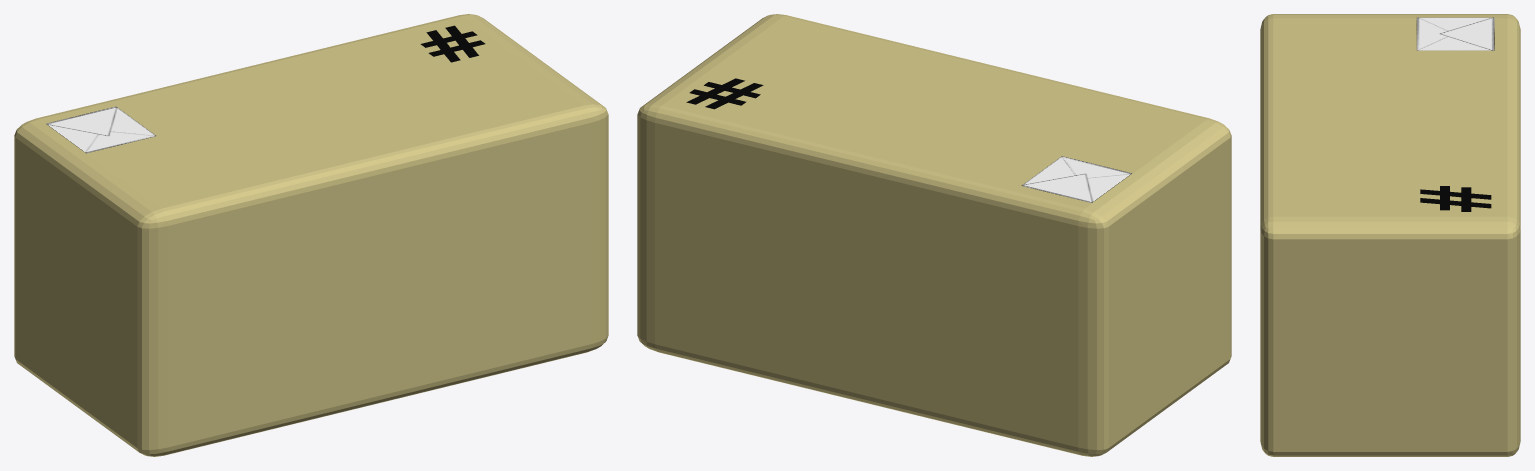
File: Message_Hashtag_test.dae
3 renders of one model, left to right at view 1: azimuth 30°, elevation 25°; view 2: azimuth 150°, elevation 25°; view 3: azimuth 270°, elevation 25°, orthographic. The views are drawn at different scales.
Parts seen in each view (by area): view 1: Cube, Plane, Plane_002; view 2: Cube, Plane, Plane_002; view 3: Cube, Plane, Plane_002.
Boxes of the visible parts, bbox=[...] form: Cube: bbox=[14, 14, 608, 456]; Plane: bbox=[46, 106, 156, 153]; Plane_002: bbox=[420, 25, 485, 62]; Cube: bbox=[637, 14, 1231, 456]; Plane: bbox=[1021, 156, 1131, 202]; Plane_002: bbox=[686, 78, 763, 109]; Cube: bbox=[1260, 14, 1520, 456]; Plane: bbox=[1416, 17, 1494, 50]; Plane_002: bbox=[1420, 186, 1491, 211].
Bounding box in the file's own units: 2 × 1 × 1.
Materials: 3 (2 with a texture image).
